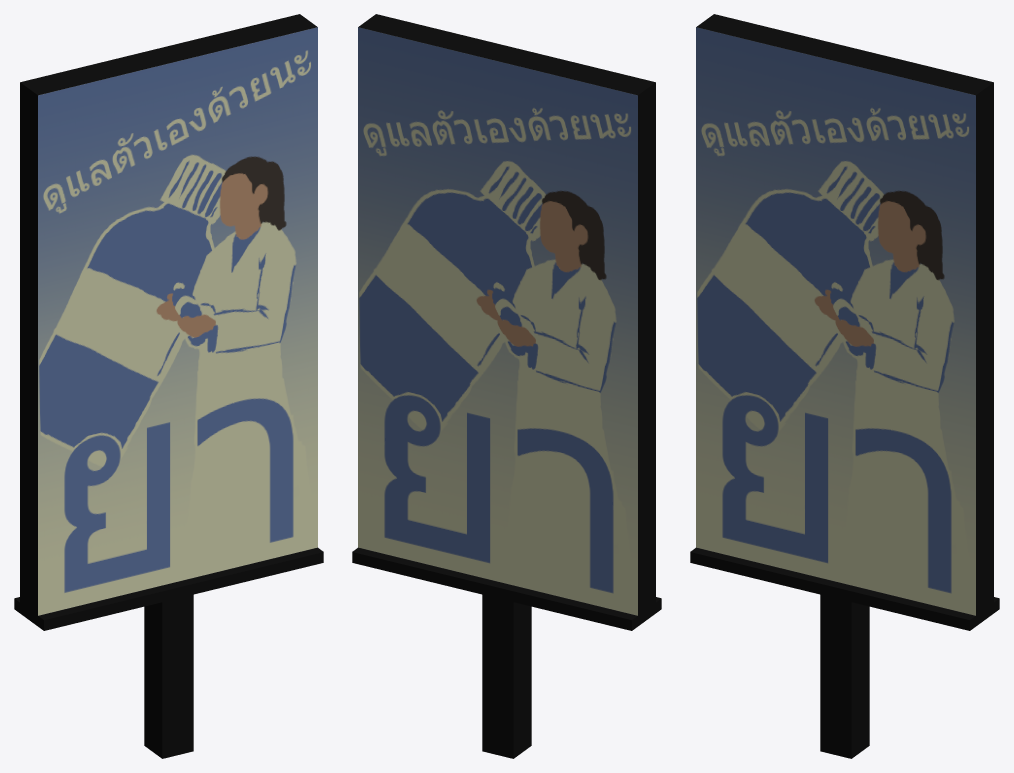
File: Billboard_2_v2.obj
The picture shows the model from 3 angles, left to right: view 1: azimuth 30°, elevation 25°; view 2: azimuth 150°, elevation 25°; view 3: azimuth 330°, elevation 25°; orthographic projection.
Parts seen in each view (by area): view 1: Billboard_2; view 2: Billboard_2; view 3: Billboard_2.
Part boxes in pixels (x1,y1,x2,y2): Billboard_2: (14,14,323,758); Billboard_2: (352,14,661,758); Billboard_2: (690,14,999,758).
Bounding box in the file's own units: 5.4 × 12.8 × 1.
Materials: 2 (1 with a texture image).
